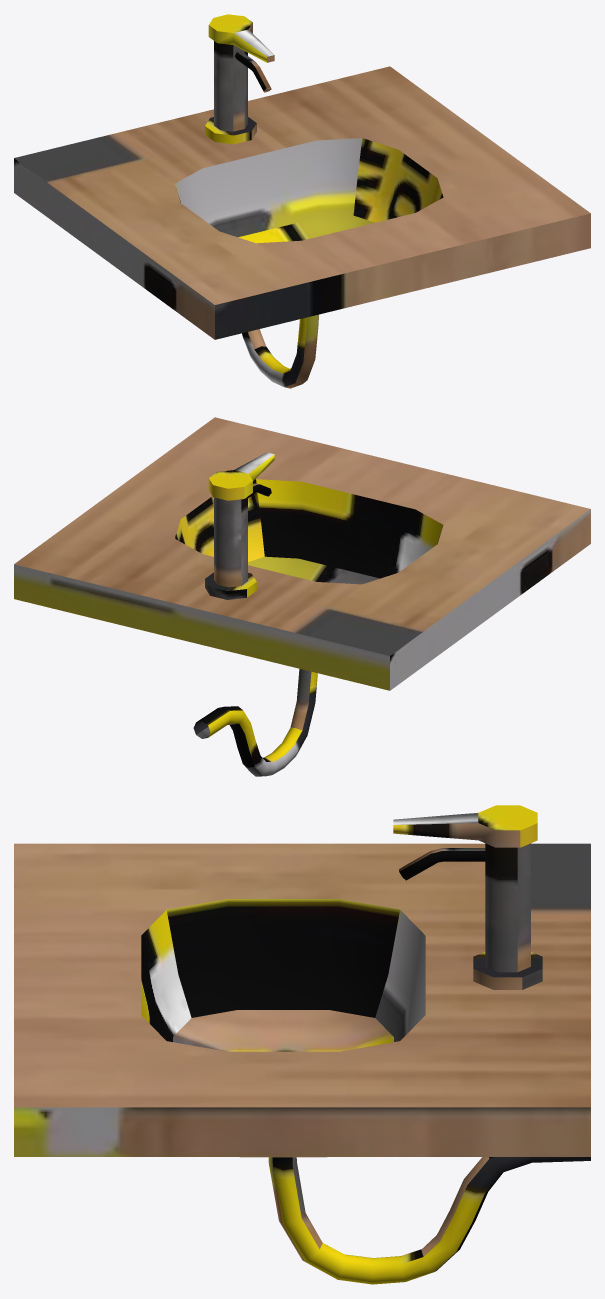
File: sink.glb
3 views of the same model, one above another, from view 1: azimuth 30°, elevation 25°; view 2: azimuth 150°, elevation 25°; view 3: azimuth 270°, elevation 25° (orthographic). The views are drawn at different scales.
Visible parts, largest first — view 1: SM_Sink_WC_0; view 2: SM_Sink_WC_0; view 3: SM_Sink_WC_0.
Boxes of the visible parts, x1=… form: SM_Sink_WC_0: x1=14, y1=14, x2=590, y2=388; SM_Sink_WC_0: x1=14, y1=417, x2=590, y2=776; SM_Sink_WC_0: x1=14, y1=805, x2=590, y2=1284.
Size of the model in its own units: 0.4081 by 0.3365 by 0.3775.
1 material, 1 textured.
